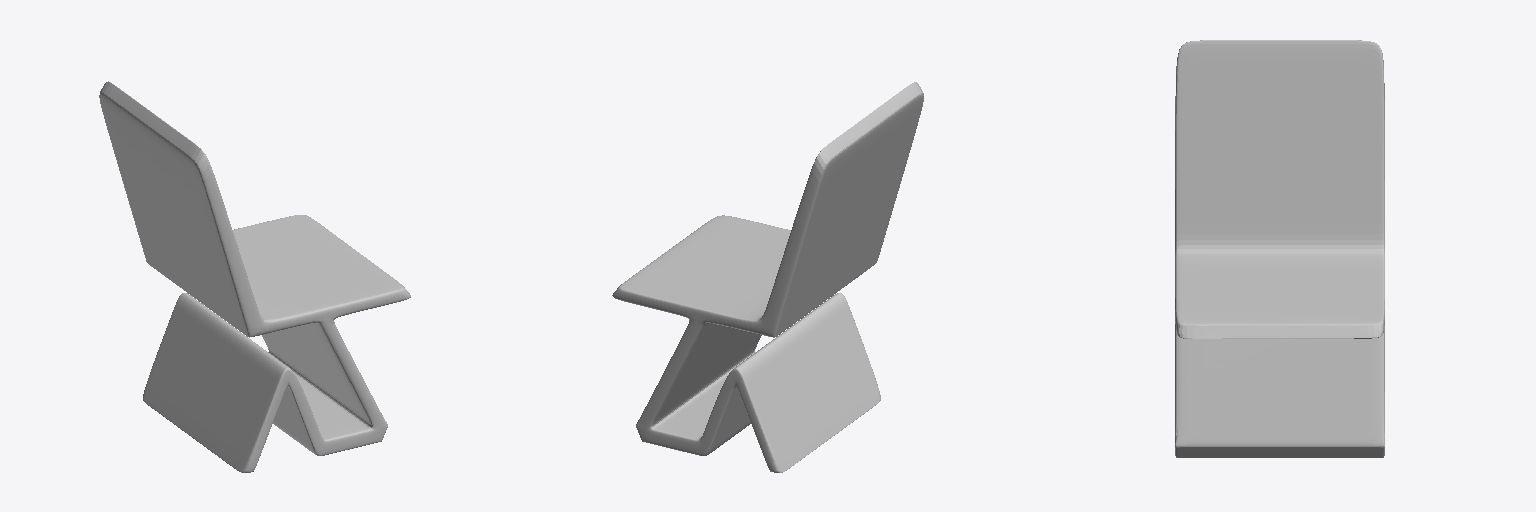
Rendered from stul3.obj.
The picture shows the model from 3 angles: view 1: azimuth 30°, elevation 25°; view 2: azimuth 150°, elevation 25°; view 3: azimuth 270°, elevation 25°; orthographic projection.
Parts seen in each view (by area): view 1: Plane; view 2: Plane; view 3: Plane.
Boxes of the visible parts, box(x1,y1,x2,y2) form: Plane: box(99, 81, 410, 472); Plane: box(612, 82, 923, 472); Plane: box(1175, 40, 1384, 457).
Size of the model in its own units: 2.37 by 3.48 by 2.